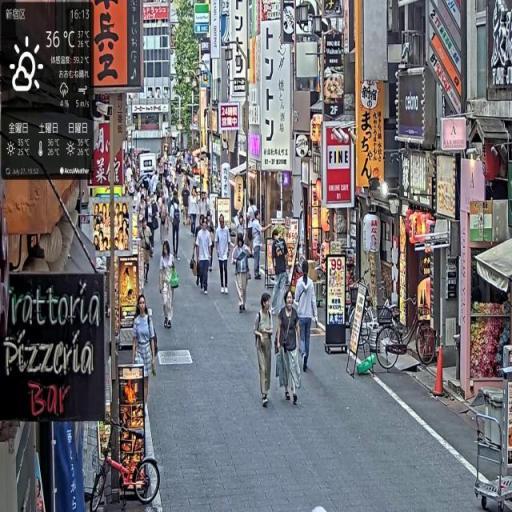person: (132, 294, 160, 417), (276, 288, 305, 405), (294, 261, 319, 375), (254, 291, 278, 409), (159, 240, 181, 329), (233, 232, 253, 316), (195, 219, 214, 296), (215, 215, 232, 296), (171, 190, 184, 262), (190, 187, 202, 245)
